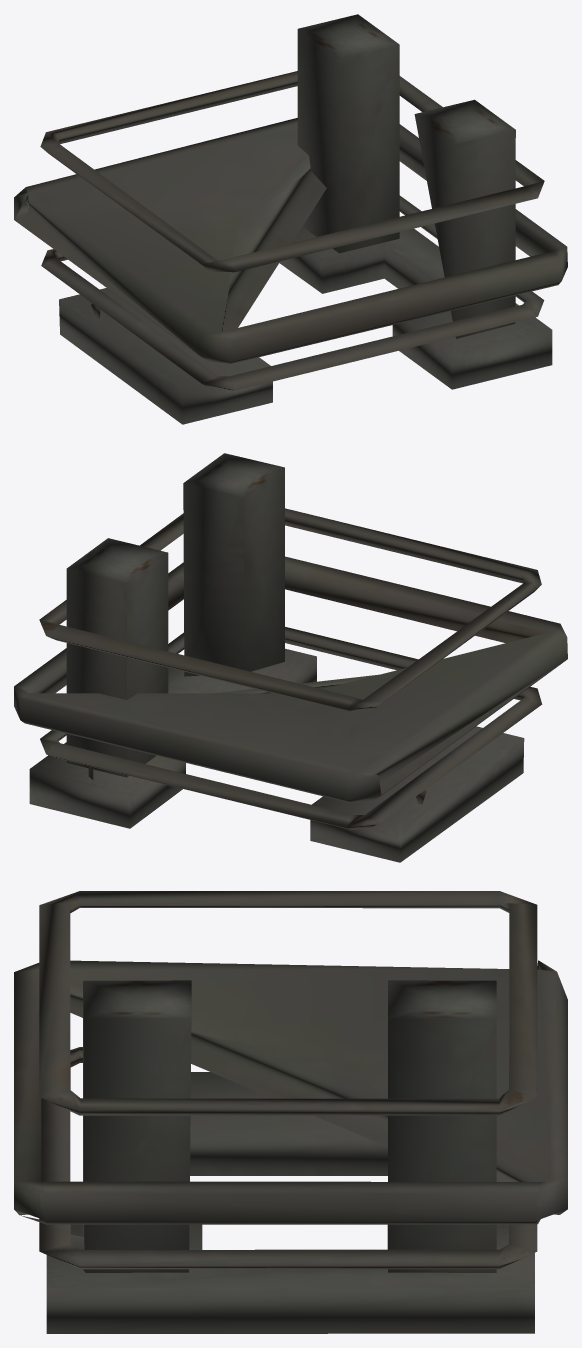
The picture shows the model from 3 angles, top to bottom: view 1: azimuth 30°, elevation 25°; view 2: azimuth 150°, elevation 25°; view 3: azimuth 270°, elevation 25°; orthographic projection. The views are drawn at different scales.
Bounding box in the file's own units: 2 × 1.2 × 2.
Materials: 1 (1 with a texture image).
